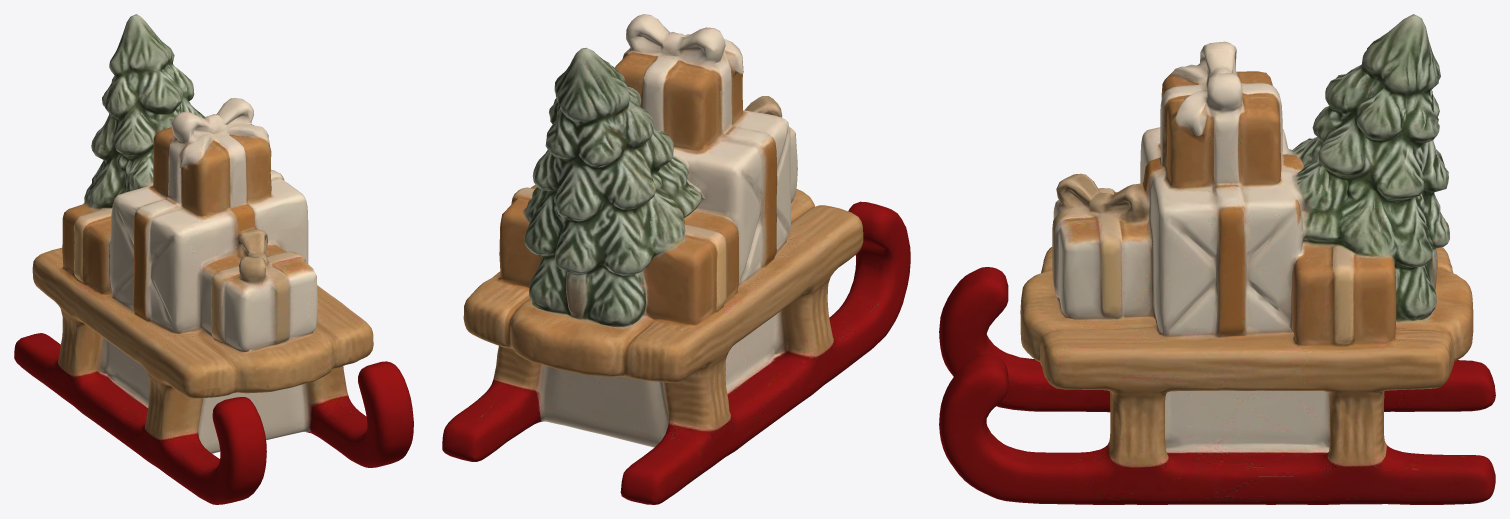
Rendered from sled.glb.
The picture shows the model from 3 angles, left to right: view 1: azimuth 30°, elevation 25°; view 2: azimuth 150°, elevation 25°; view 3: azimuth 270°, elevation 25°; orthographic projection. The views are drawn at different scales.
Bounding box in the file's own units: 0.9786 × 1.73 × 2.
1 material, 1 textured.
